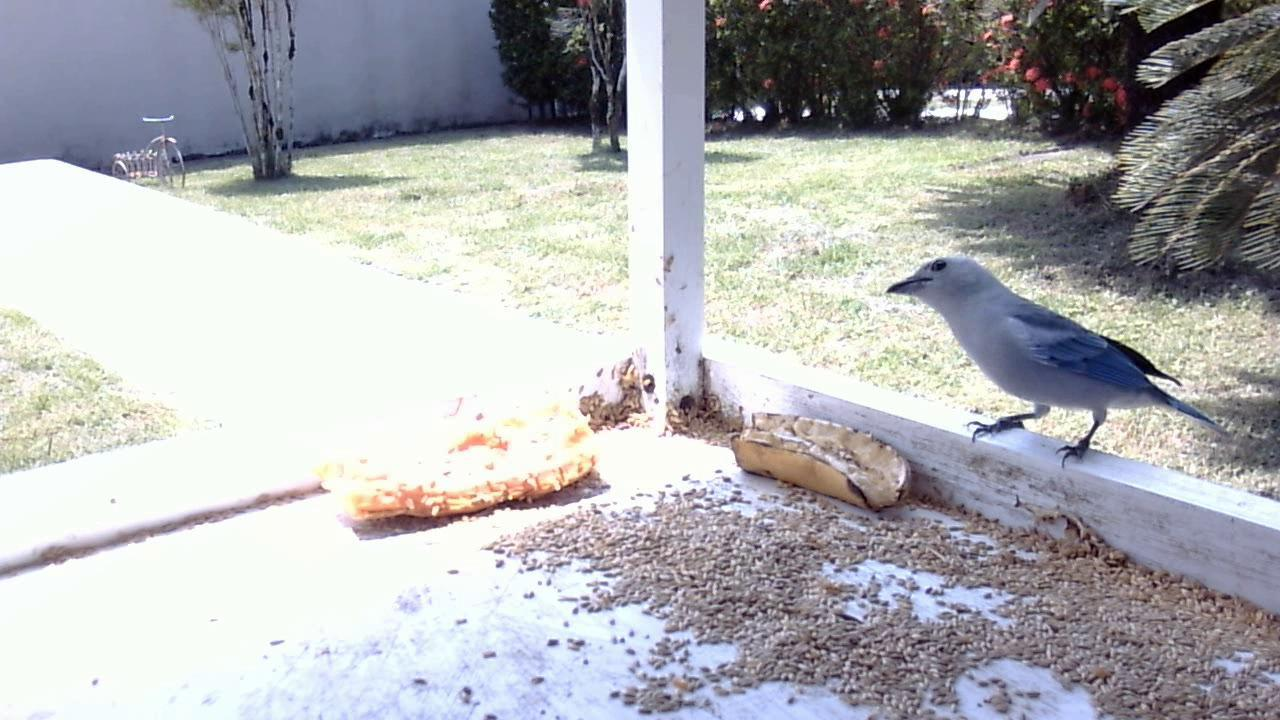sanhaco_da_amazonia: (882, 252, 1232, 480)
